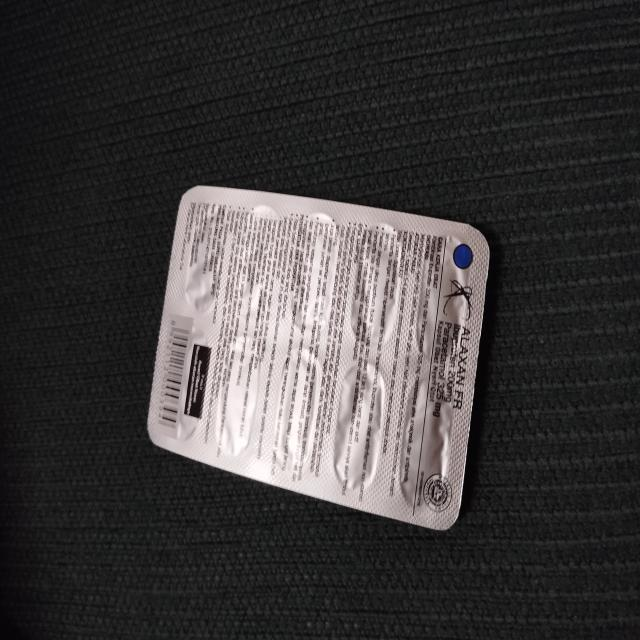B3: (149, 186, 489, 531)
